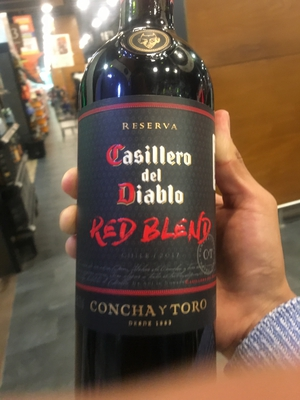casillero del diablo red blend: (52, 23, 238, 382)
